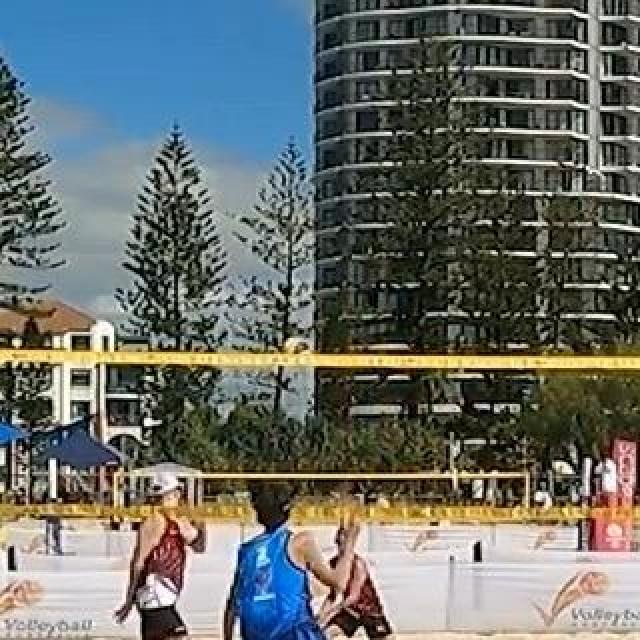volleyball: (279, 337, 313, 369)
